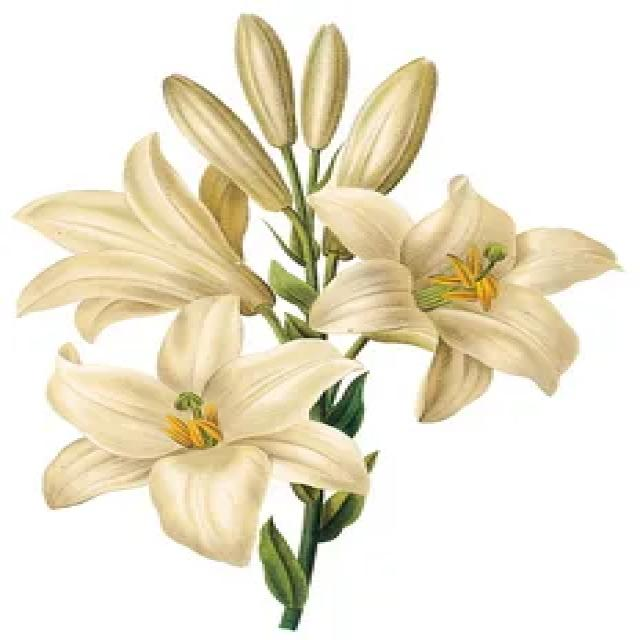lily: (15, 296, 388, 586)
